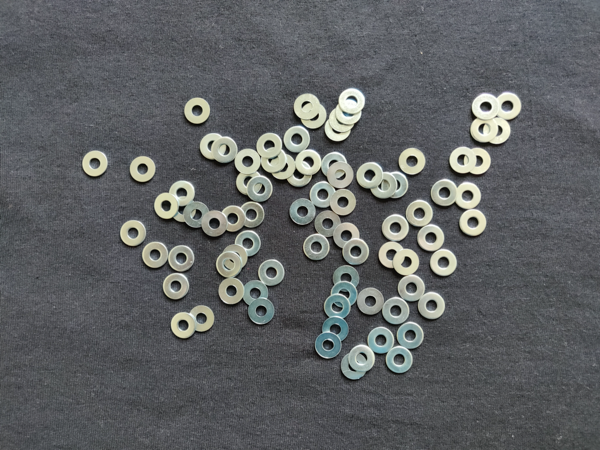circle: (181, 96, 214, 126), (79, 149, 109, 179), (120, 216, 148, 248), (397, 146, 427, 175), (355, 288, 385, 317), (166, 245, 197, 273), (141, 239, 170, 268), (188, 305, 218, 333), (321, 150, 349, 180), (127, 157, 158, 184), (153, 191, 180, 222), (473, 92, 500, 123), (212, 137, 240, 166), (329, 188, 358, 216), (333, 222, 362, 250), (333, 265, 362, 293), (398, 322, 426, 351), (286, 159, 313, 189), (355, 161, 385, 188), (383, 170, 410, 200), (458, 211, 488, 238), (170, 313, 198, 341), (241, 280, 269, 308), (234, 230, 262, 258), (342, 239, 370, 267), (340, 353, 368, 381), (386, 347, 414, 375), (382, 296, 410, 324), (419, 293, 447, 321), (398, 275, 426, 303), (406, 200, 434, 228), (169, 180, 196, 209), (326, 116, 355, 143), (313, 210, 342, 237), (330, 281, 359, 308), (379, 240, 406, 269), (431, 178, 458, 207), (453, 183, 482, 210), (484, 117, 511, 146), (496, 92, 523, 121), (314, 334, 345, 359), (163, 273, 190, 301), (183, 201, 210, 229), (238, 203, 266, 230), (198, 133, 226, 160), (261, 146, 288, 174), (218, 277, 245, 305), (247, 299, 275, 326), (258, 259, 285, 287), (288, 199, 316, 226), (309, 182, 337, 209), (348, 345, 375, 373), (449, 147, 477, 174), (464, 149, 492, 176), (321, 317, 350, 343), (301, 101, 326, 131), (336, 99, 366, 124), (170, 198, 197, 225), (293, 92, 320, 119), (382, 215, 409, 242), (432, 249, 459, 276), (234, 149, 262, 175), (328, 161, 354, 189), (370, 171, 396, 199), (367, 327, 395, 353), (471, 118, 499, 144), (201, 211, 227, 238), (220, 206, 246, 233), (235, 169, 262, 195), (296, 149, 323, 175), (302, 235, 329, 261), (420, 224, 446, 251), (339, 88, 367, 113), (324, 297, 352, 322), (392, 249, 420, 274), (247, 177, 273, 203), (270, 154, 296, 180), (284, 127, 310, 153), (216, 252, 242, 277), (223, 245, 249, 270), (328, 109, 355, 133), (257, 133, 283, 157)
